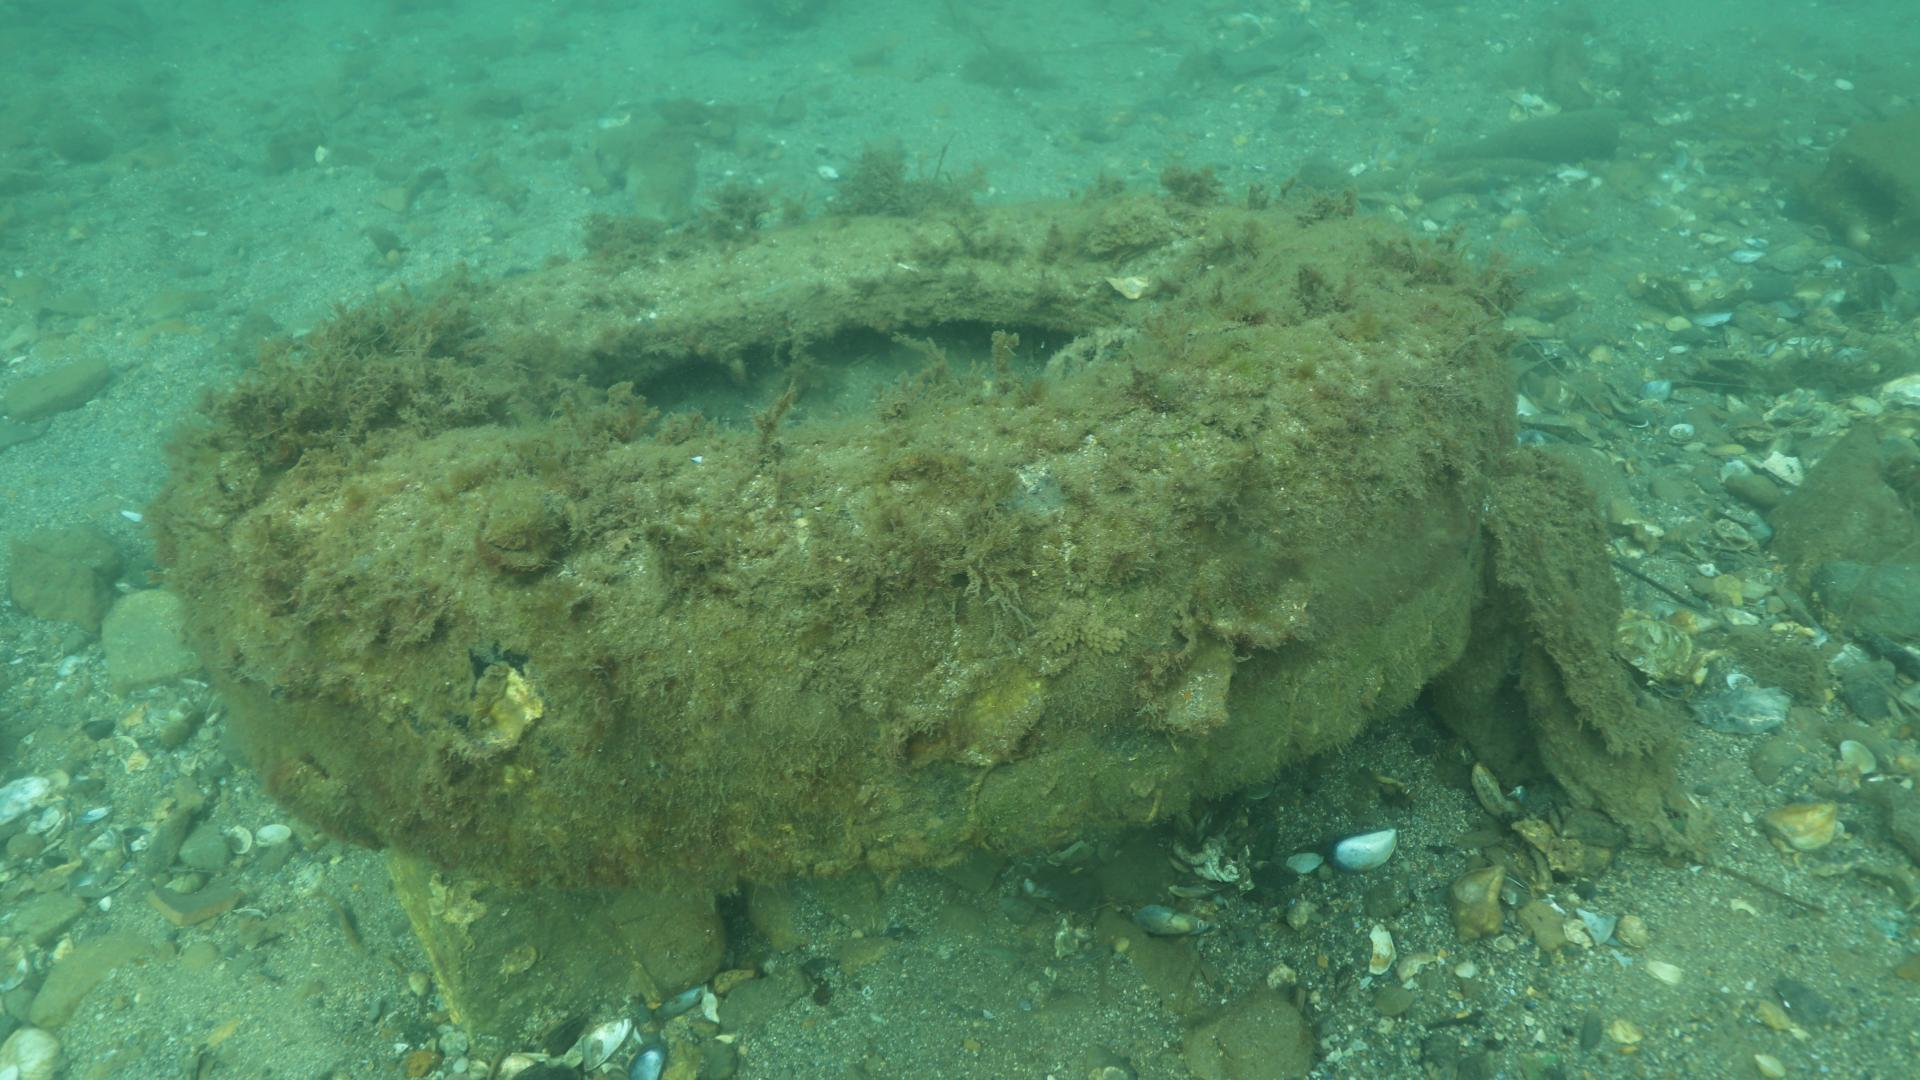tire: (178, 199, 1489, 873)
